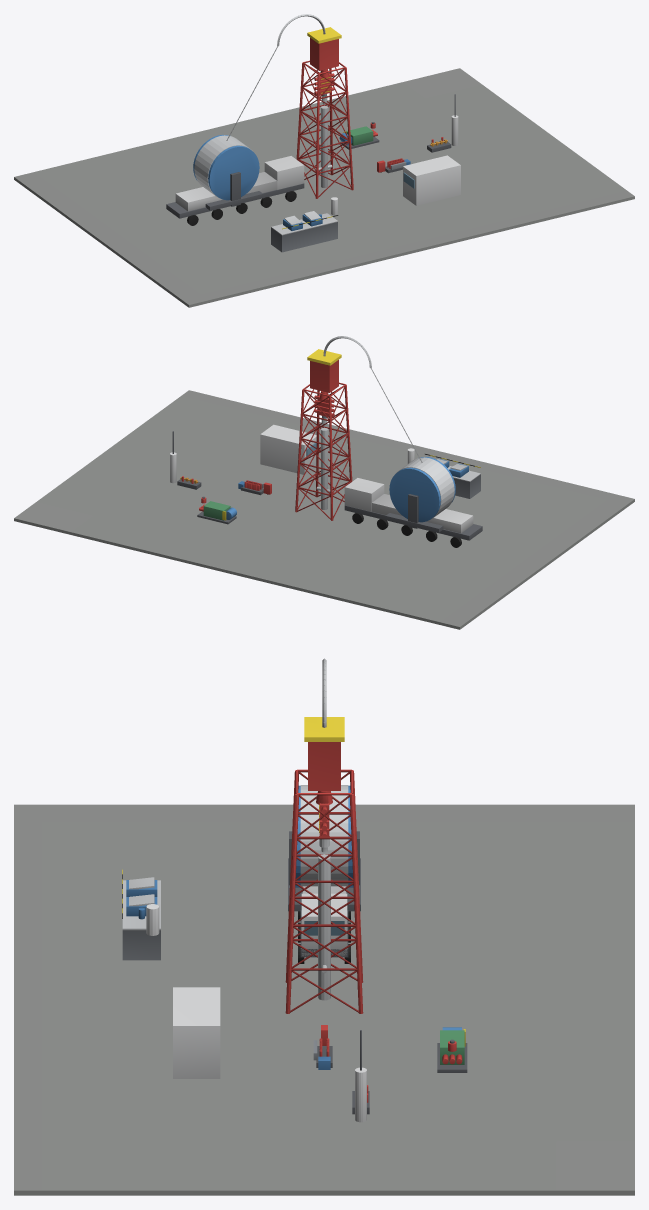
File: ctu_high.glb
3 views of the same model, one above another, from view 1: azimuth 30°, elevation 25°; view 2: azimuth 150°, elevation 25°; view 3: azimuth 270°, elevation 25° (orthographic). The views are drawn at different scales.
Visible parts, largest first — view 1: site__pad, mast__mast, drawworks__drum, carrier__truck, carrier__control, mudtanks__tanks, topdrive__motor, bop__wellhead.001, mudpumps__powerend, mudtanks__solids, drawworks__skid; view 2: site__pad, mast__mast, drawworks__drum, carrier__truck, carrier__control, topdrive__motor, mudtanks__tanks, bop__wellhead.001, mudpumps__powerend, drawworks__skid; view 3: site__pad, mast__mast, carrier__control, drawworks__drum, topdrive__motor, carrier__truck, mudtanks__tanks, bop__wellhead.001, mudpumps__powerend, mudtanks__solids.
Boxes of the visible parts, bbox=[...] form: site__pad: bbox=[14, 68, 634, 307]; mast__mast: bbox=[296, 60, 353, 198]; drawworks__drum: bbox=[193, 134, 259, 206]; carrier__truck: bbox=[166, 156, 304, 225]; carrier__control: bbox=[403, 155, 460, 205]; mudtanks__tanks: bbox=[271, 213, 338, 252]; topdrive__motor: bbox=[307, 27, 341, 70]; bop__wellhead.001: bbox=[318, 105, 332, 187]; mudpumps__powerend: bbox=[340, 126, 379, 149]; mudtanks__solids: bbox=[283, 211, 322, 230]; drawworks__skid: bbox=[205, 191, 263, 210]; site__pad: bbox=[14, 390, 634, 629]; mast__mast: bbox=[295, 382, 352, 520]; drawworks__drum: bbox=[389, 456, 455, 528]; carrier__truck: bbox=[344, 478, 482, 547]; carrier__control: bbox=[260, 424, 316, 474]; topdrive__motor: bbox=[307, 349, 341, 392]; mudtanks__tanks: bbox=[425, 454, 480, 498]; bop__wellhead.001: bbox=[316, 427, 330, 509]; mudpumps__powerend: bbox=[197, 501, 236, 524]; drawworks__skid: bbox=[385, 513, 443, 532]; site__pad: bbox=[14, 804, 634, 1195]; mast__mast: bbox=[285, 769, 363, 1013]; carrier__control: bbox=[173, 987, 220, 1078]; drawworks__drum: bbox=[289, 785, 359, 888]; topdrive__motor: bbox=[304, 717, 344, 790]; carrier__truck: bbox=[298, 886, 350, 963]; mudtanks__tanks: bbox=[122, 869, 160, 960]; bop__wellhead.001: bbox=[318, 854, 330, 1000]; mudpumps__powerend: bbox=[437, 1030, 467, 1072]; mudtanks__solids: bbox=[126, 877, 157, 916].
Size of the model in its own units: 50 by 19.32 by 34.
